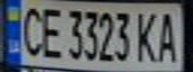2: (97, 7, 118, 61)
3: (112, 8, 136, 62), (78, 7, 100, 62), (63, 6, 84, 61)
A: (154, 8, 184, 63)
C: (15, 2, 45, 58)
E: (36, 3, 66, 60)
K: (133, 8, 160, 63)
